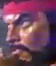ryu: (3, 0, 52, 65)
